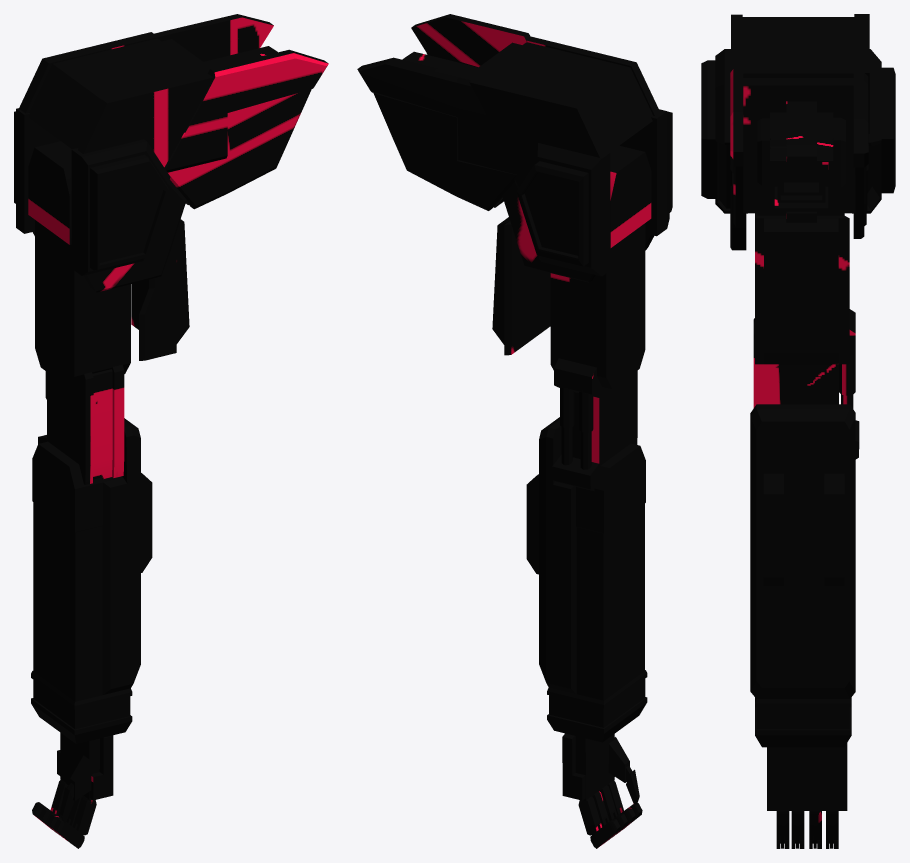
The model's file is PUNCH.fbx.
The picture shows the model from 3 angles, left to right: view 1: azimuth 30°, elevation 25°; view 2: azimuth 150°, elevation 25°; view 3: azimuth 270°, elevation 25°; orthographic projection. The views are drawn at different scales.
Parts seen in each view (by area): view 1: 2sholder, 2arm, 4komono; view 2: 2sholder, 2arm, 4komono; view 3: 2arm, 2sholder, 4komono.
Part boxes in pixels (x1,y1,x2,y2): 2sholder: (14, 14, 328, 292); 2arm: (31, 219, 189, 743); 4komono: (28, 46, 277, 848); 2sholder: (357, 14, 672, 282); 2arm: (492, 217, 647, 742); 4komono: (402, 51, 651, 848); 2arm: (750, 213, 855, 747); 2sholder: (701, 14, 895, 250); 4komono: (753, 101, 859, 848).
Size of the model in its own units: 570 by 1657 by 347.
2 materials, 2 textured.
